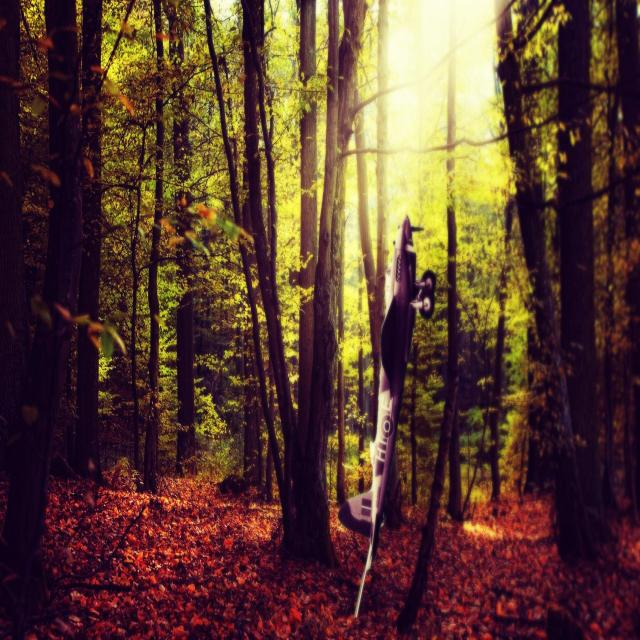airplane: (338, 213, 437, 619)
